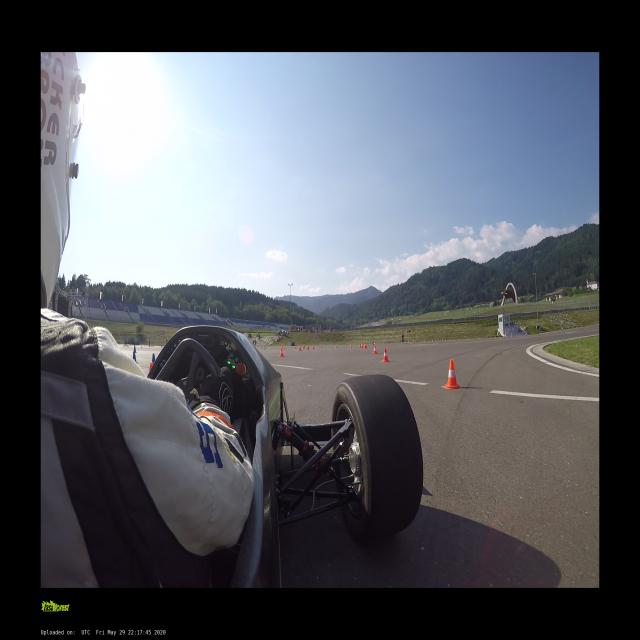orange_cone: (443, 360, 460, 389), (381, 348, 389, 362), (372, 346, 377, 354), (280, 348, 283, 356), (150, 362, 153, 369), (360, 343, 363, 348), (299, 344, 301, 351), (364, 342, 366, 348), (360, 342, 362, 348), (307, 345, 309, 349), (350, 344, 352, 348), (303, 345, 305, 348), (320, 344, 322, 347), (312, 345, 313, 349), (295, 344, 296, 348), (335, 344, 336, 346)
